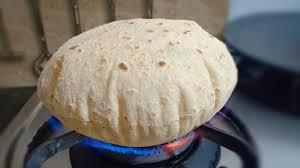roti phulka: (33, 14, 242, 138)
